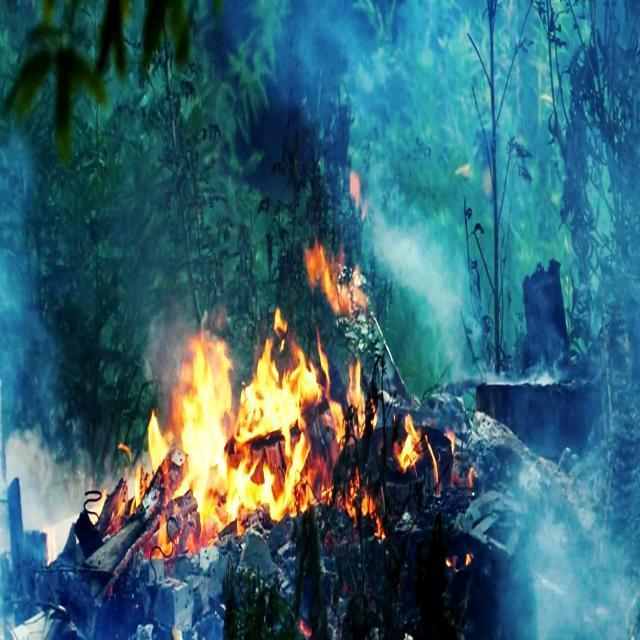Fire: (115, 293, 426, 585), (309, 239, 373, 315)
Smoke: (310, 11, 640, 396)
